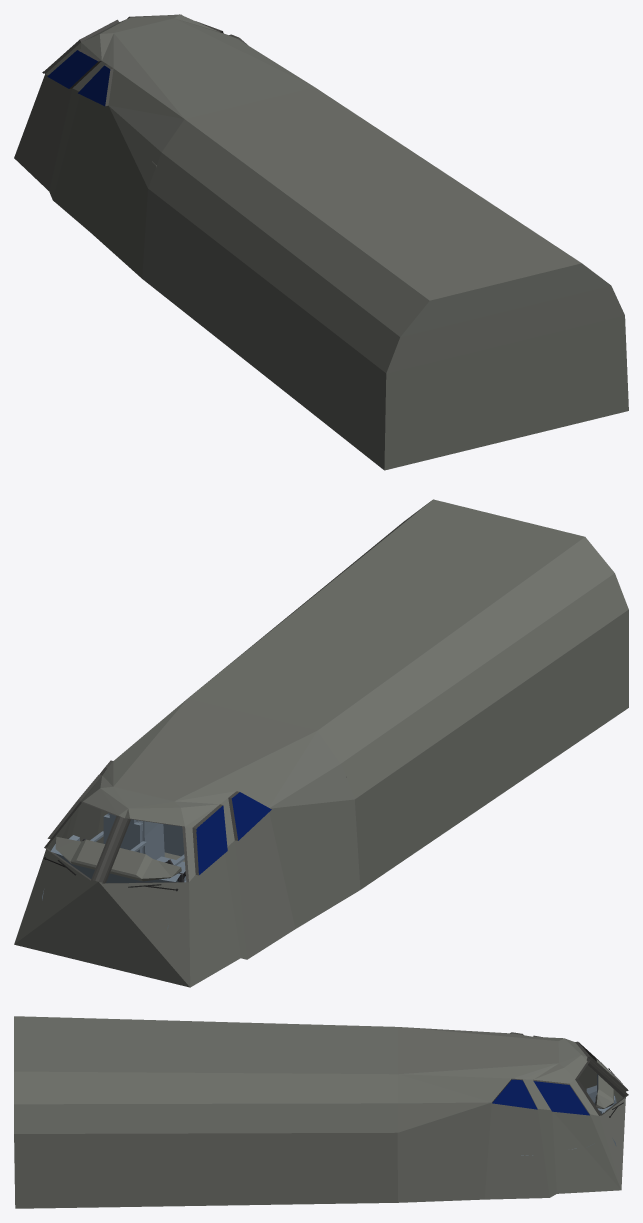
Rendered from C_Cockpit.obj.
3 views of the same model, one above another, from view 1: azimuth 30°, elevation 25°; view 2: azimuth 150°, elevation 25°; view 3: azimuth 270°, elevation 25° (orthographic). The views are drawn at different scales.
Visible parts, largest first — view 1: ShapeIndexedFaceSet.091_ShapeIndexedFaceSet.092, ShapeIndexedFaceSet.031_ShapeIndexedFaceSet.032, ShapeIndexedFaceSet.092_ShapeIndexedFaceSet.093; view 2: ShapeIndexedFaceSet.091_ShapeIndexedFaceSet.092, ShapeIndexedFaceSet.161_ShapeIndexedFaceSet.162, ShapeIndexedFaceSet.031_ShapeIndexedFaceSet.032, ShapeIndexedFaceSet.092_ShapeIndexedFaceSet.093, ShapeIndexedFaceSet.144_ShapeIndexedFaceSet.145, ShapeIndexedFaceSet.118_ShapeIndexedFaceSet.119; view 3: ShapeIndexedFaceSet.091_ShapeIndexedFaceSet.092, ShapeIndexedFaceSet.031_ShapeIndexedFaceSet.032, ShapeIndexedFaceSet.092_ShapeIndexedFaceSet.093, ShapeIndexedFaceSet.161_ShapeIndexedFaceSet.162.
Boxes of the visible parts, <box> form: ShapeIndexedFaceSet.091_ShapeIndexedFaceSet.092: <box>14,14,628,470</box>; ShapeIndexedFaceSet.031_ShapeIndexedFaceSet.032: <box>47,50,110,106</box>; ShapeIndexedFaceSet.092_ShapeIndexedFaceSet.093: <box>44,14,247,106</box>; ShapeIndexedFaceSet.091_ShapeIndexedFaceSet.092: <box>14,499,628,987</box>; ShapeIndexedFaceSet.161_ShapeIndexedFaceSet.162: <box>55,836,181,881</box>; ShapeIndexedFaceSet.031_ShapeIndexedFaceSet.032: <box>196,792,271,874</box>; ShapeIndexedFaceSet.092_ShapeIndexedFaceSet.093: <box>44,760,239,883</box>; ShapeIndexedFaceSet.144_ShapeIndexedFaceSet.145: <box>93,816,130,883</box>; ShapeIndexedFaceSet.118_ShapeIndexedFaceSet.119: <box>90,813,142,853</box>; ShapeIndexedFaceSet.091_ShapeIndexedFaceSet.092: <box>14,1016,625,1208</box>; ShapeIndexedFaceSet.031_ShapeIndexedFaceSet.032: <box>492,1079,589,1115</box>; ShapeIndexedFaceSet.092_ShapeIndexedFaceSet.093: <box>492,1032,628,1115</box>; ShapeIndexedFaceSet.161_ShapeIndexedFaceSet.162: <box>595,1059,613,1108</box>.
Bounding box in the file's own units: 2.6 × 1.62 × 7.56.
Materials: 92 (19 with a texture image).
